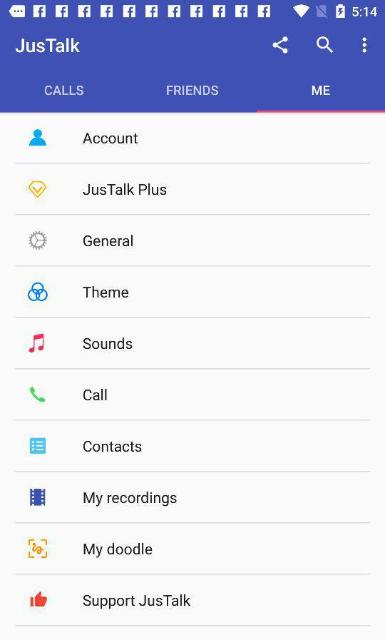Icon: (28, 538, 48, 558), (28, 230, 47, 250), (27, 282, 47, 300), (29, 180, 47, 198), (28, 128, 46, 146), (28, 333, 44, 352), (30, 436, 46, 454), (272, 36, 288, 54), (29, 488, 45, 506), (316, 36, 332, 54), (29, 385, 45, 401), (30, 592, 48, 606), (362, 36, 366, 54)
List: (15, 122, 370, 640)
Multi_Tab: (0, 71, 385, 113)
Text: (84, 594, 190, 608), (83, 492, 177, 506), (14, 37, 80, 53), (82, 183, 166, 195), (82, 542, 152, 556), (83, 440, 141, 452), (84, 132, 138, 144), (82, 337, 131, 349), (84, 234, 132, 246), (82, 285, 128, 297), (167, 85, 219, 95), (44, 84, 84, 96), (83, 388, 107, 400), (312, 84, 330, 96)
Toolbar: (0, 23, 385, 70)
UpperTaskBar: (0, 0, 385, 22)
